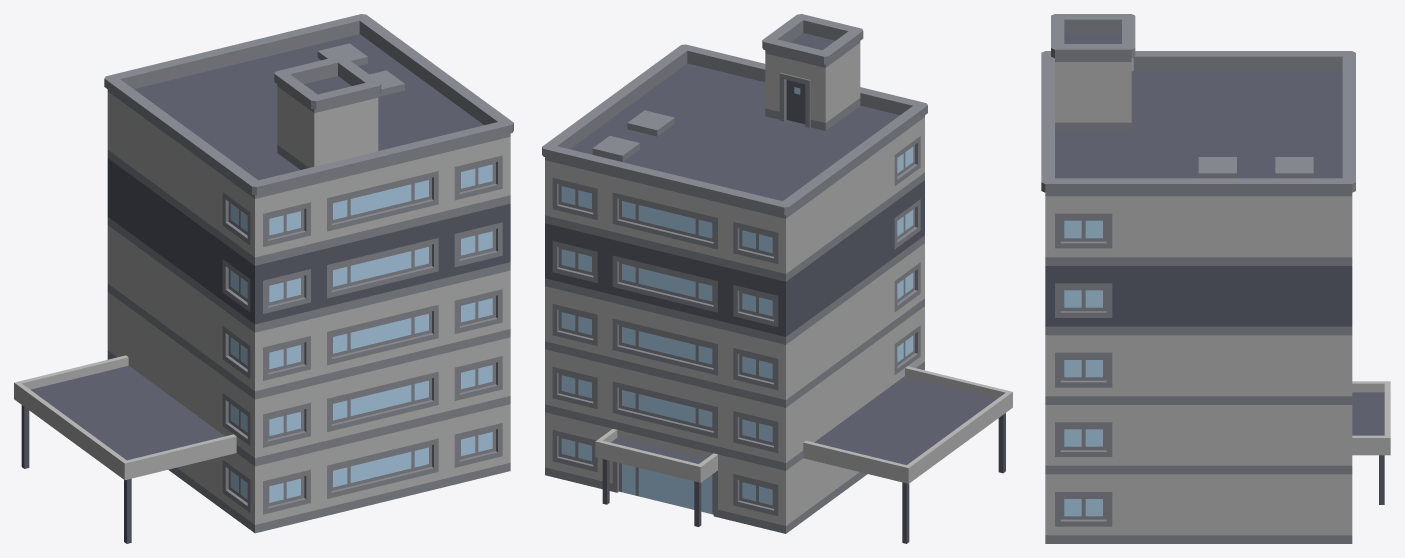
Rendered from large_buildingg_lev3.glb.
The picture shows the model from 3 angles, left to right: view 1: azimuth 30°, elevation 25°; view 2: azimuth 150°, elevation 25°; view 3: azimuth 270°, elevation 25°; orthographic projection. The views are drawn at different scales.
Parts seen in each view (by area): view 1: large_buildingg_lev3; view 2: large_buildingg_lev3; view 3: large_buildingg_lev3.
Part boxes in pixels (x1=…): large_buildingg_lev3: x1=14, y1=14, x2=513, y2=543; large_buildingg_lev3: x1=542, y1=14, x2=1012, y2=543; large_buildingg_lev3: x1=1041, y1=14, x2=1390, y2=543.
Size of the model in its own units: 9.86 by 10.54 by 7.74.
